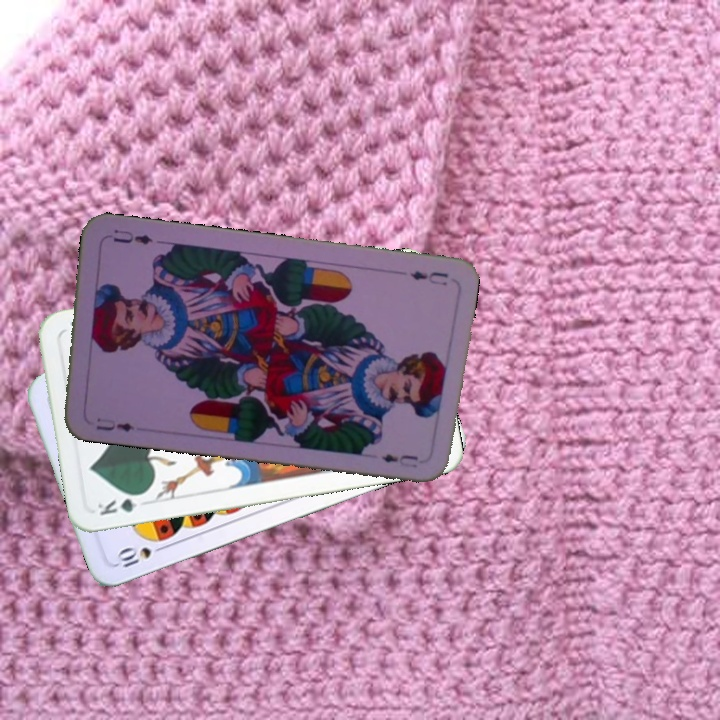EU: (406, 267, 451, 288), (92, 419, 137, 434)
GK: (93, 489, 151, 518)
S10: (113, 541, 170, 570)
